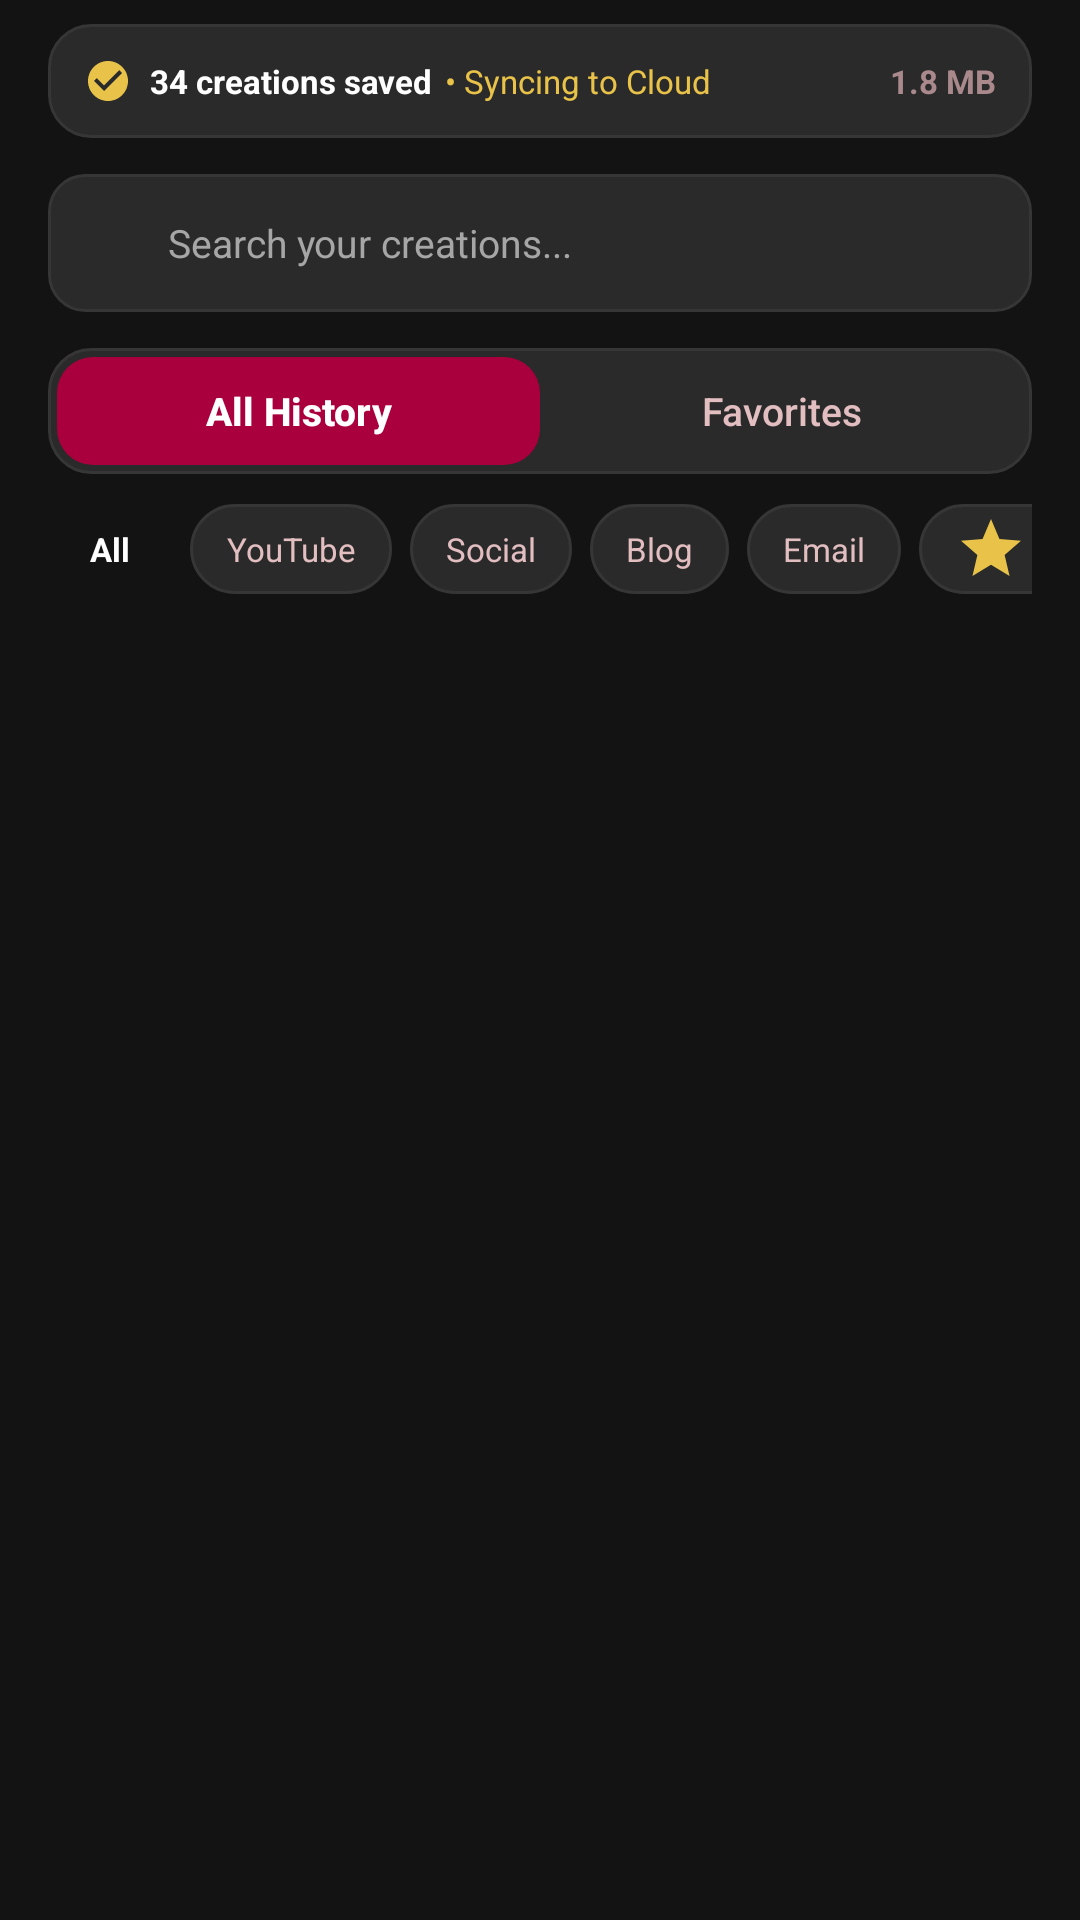

Screen size 1080w x 1920h. Icon name, then its center in pixels as point (x, y):
check circle: point (108, 81)
